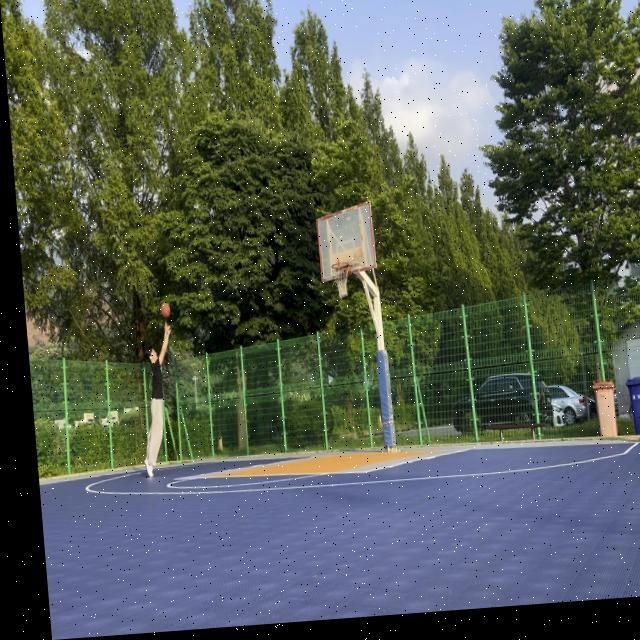basketball: (159, 301, 172, 320)
hoop: (331, 262, 353, 300)
